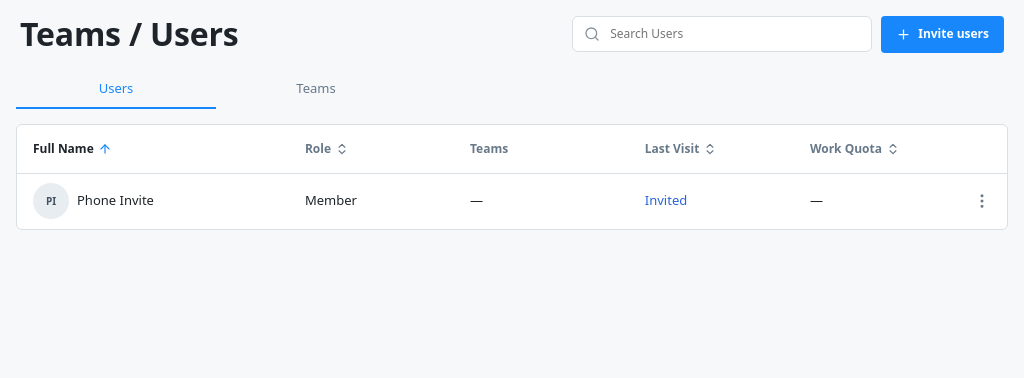
UsersPage invitations and profile navigation › keeps legacy phone invitations without an account link
Expected: the text "Phone Invite" is shown, left=77, top=194, right=154, bottom=209
Click the button named "Actions for Phone Invite".
click(982, 201)  # box left=973, top=185, right=991, bottom=217
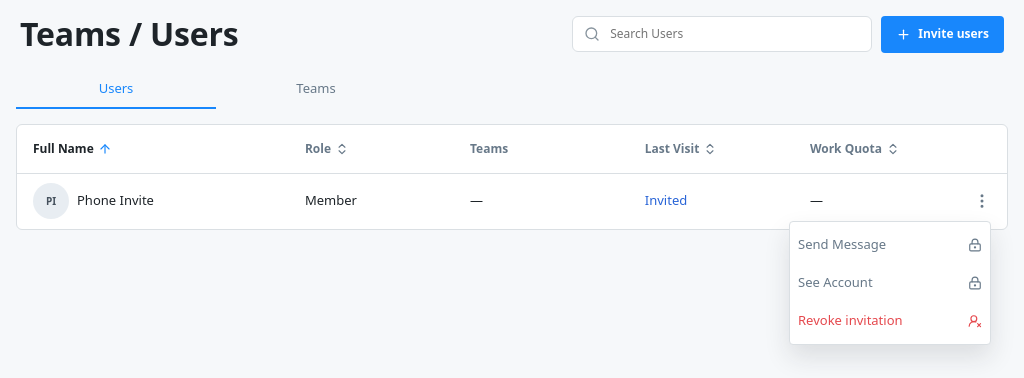
Now the menu item "See Account" is disabled, box left=790, top=264, right=990, bottom=302
